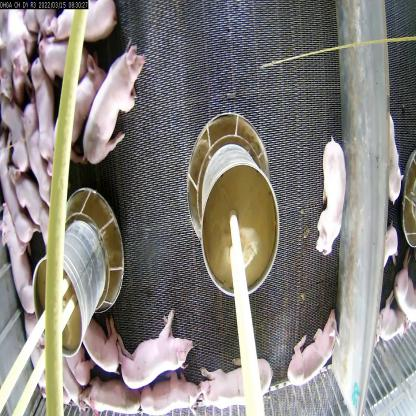Pig: (83, 40, 154, 171), (117, 310, 199, 387), (0, 203, 44, 317), (28, 56, 70, 170), (313, 134, 348, 251), (198, 357, 276, 408), (288, 307, 339, 384), (20, 101, 56, 206), (78, 379, 146, 412)
